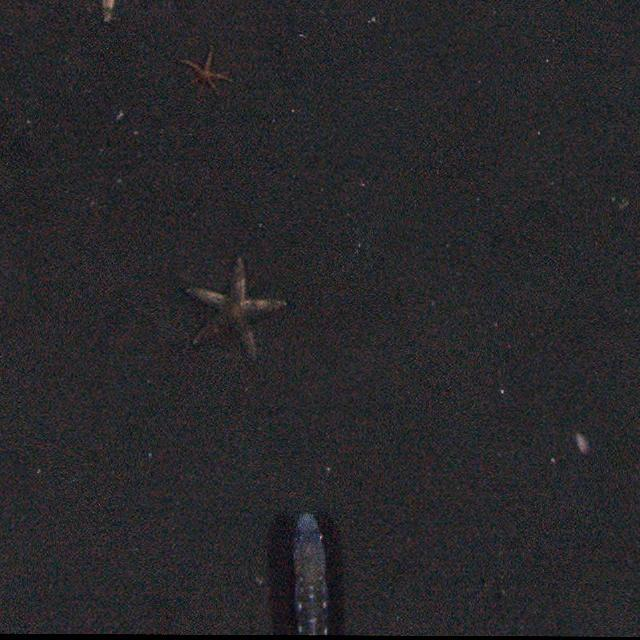roundfish: (285, 510, 338, 634)
